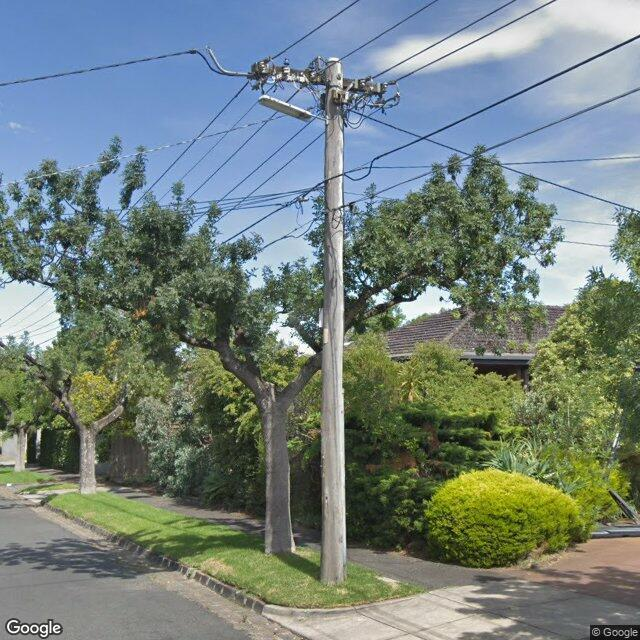crossarm: (247, 59, 402, 128)
streetlight: (257, 95, 329, 125)
timber-pole: (319, 59, 347, 586)
